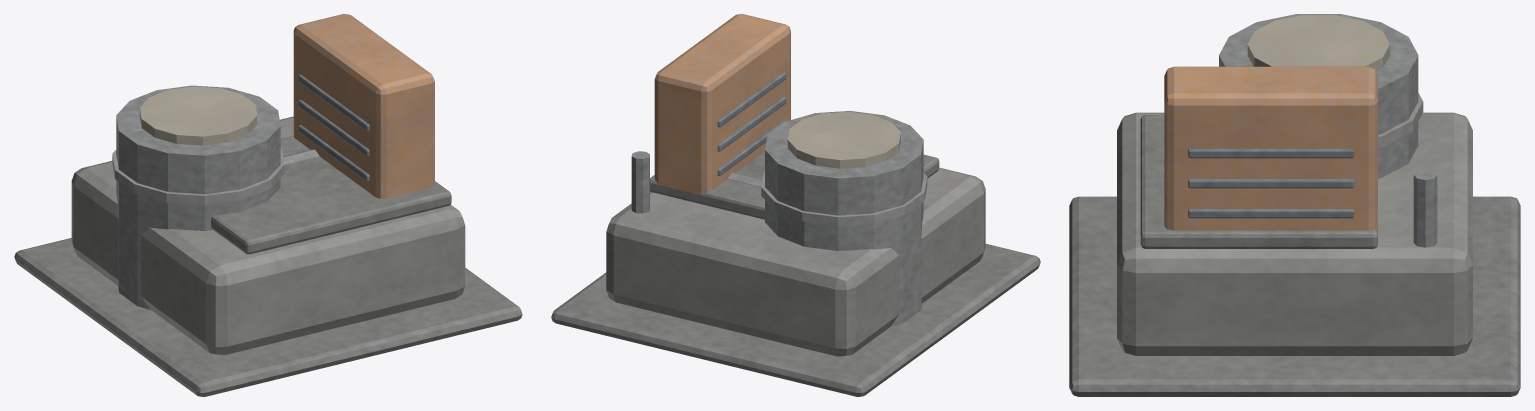
Rendered from com_power_plant.glb.
3 renders of one model, left to right at view 1: azimuth 30°, elevation 25°; view 2: azimuth 150°, elevation 25°; view 3: azimuth 270°, elevation 25°, orthographic. The views are drawn at different scales.
Parts seen in each view (by area): view 1: com_power_plant; view 2: com_power_plant; view 3: com_power_plant.
Part boxes in pixels (x1=…): com_power_plant: x1=14, y1=14, x2=522, y2=396; com_power_plant: x1=551, y1=14, x2=1040, y2=396; com_power_plant: x1=1069, y1=14, x2=1520, y2=396.
Size of the model in its own units: 1.9 by 1.28 by 1.9.
Materials: 1 (1 with a texture image).
